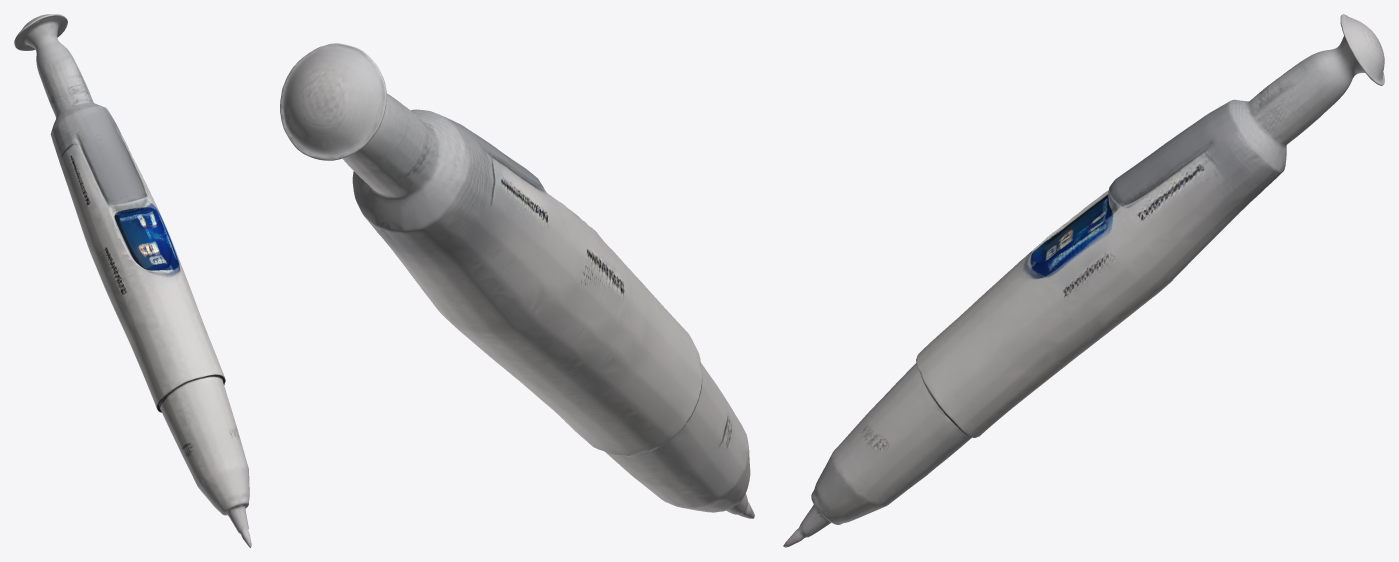
File: vet_v2_instr_vet_equip_blood_pressure.glb
3 views of the same model, side by side, from view 1: azimuth 30°, elevation 25°; view 2: azimuth 150°, elevation 25°; view 3: azimuth 270°, elevation 25° (orthographic). The views are drawn at different scales.
Visible parts, largest first — view 1: model; view 2: model; view 3: model.
Part boxes in pixels (x1,y1,x2,y2): model: [14, 14, 251, 547]; model: [280, 43, 754, 518]; model: [783, 14, 1384, 547].
Bounding box in the file's own units: 0.3392 × 1.84 × 1.89.
1 material, 1 textured.
